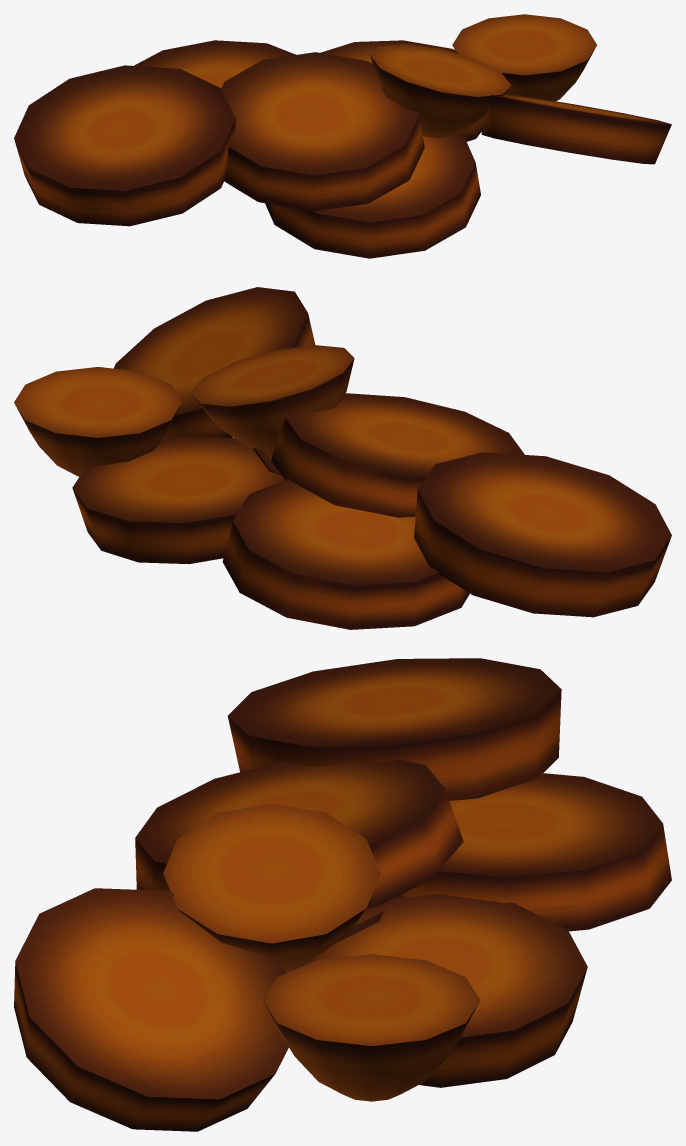
Rendered from Carrot_Cooked_Plated.fbx.
3 views of the same model, one above another, from view 1: azimuth 30°, elevation 25°; view 2: azimuth 150°, elevation 25°; view 3: azimuth 270°, elevation 25° (orthographic). The views are drawn at different scales.
Parts seen in each view (by area): view 1: Carrot_Cooked_Plated; view 2: Carrot_Cooked_Plated; view 3: Carrot_Cooked_Plated.
Part boxes in pixels (left/top/right/bottom): Carrot_Cooked_Plated: left=14, top=14, right=671, bottom=258; Carrot_Cooked_Plated: left=14, top=287, right=671, bottom=629; Carrot_Cooked_Plated: left=14, top=658, right=671, bottom=1131.
Size of the model in its own units: 0.6742 by 0.1605 by 0.4648.
Materials: 1 (1 with a texture image).
